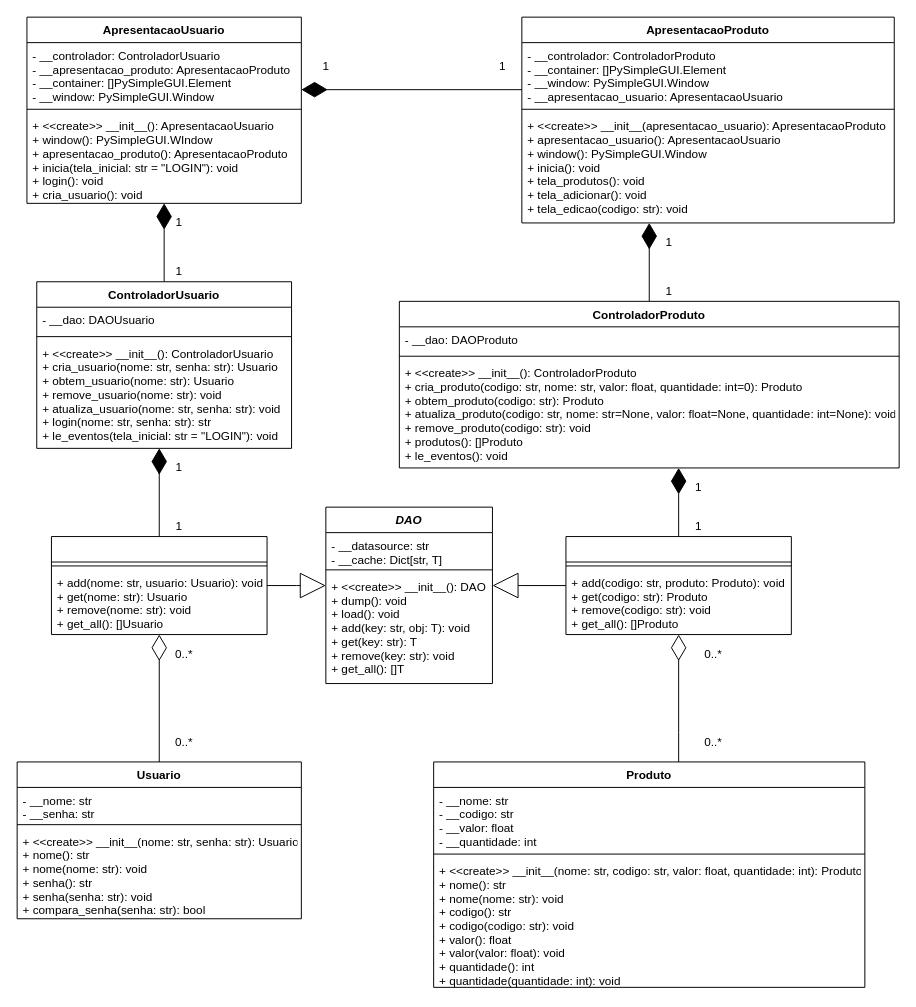
Image size: 916x1007. Some labels were removed from this diagram. The box of each missing label's shape, as (x1, y1, x2, y2) in pixels:
DAOProduto: (565, 536, 791, 635)
DAOUsuario: (50, 536, 267, 635)
